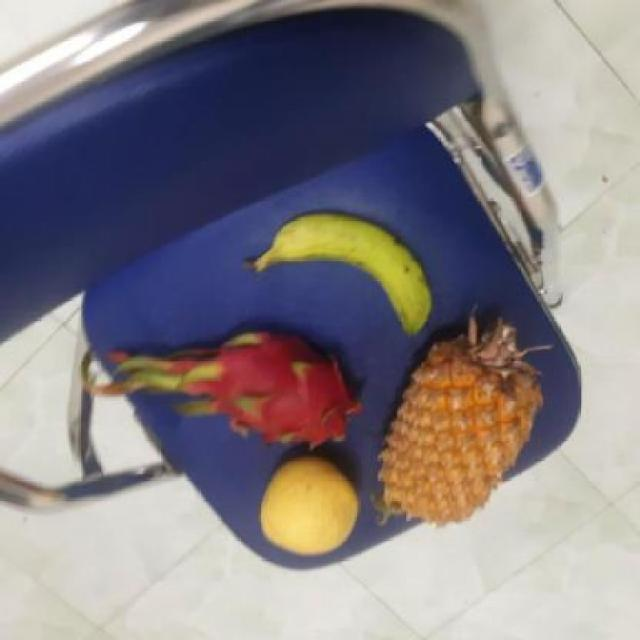banana: (251, 214, 425, 338)
dragon fruit: (195, 325, 354, 450)
pear: (253, 453, 359, 556)
pineapple: (370, 305, 541, 529)
